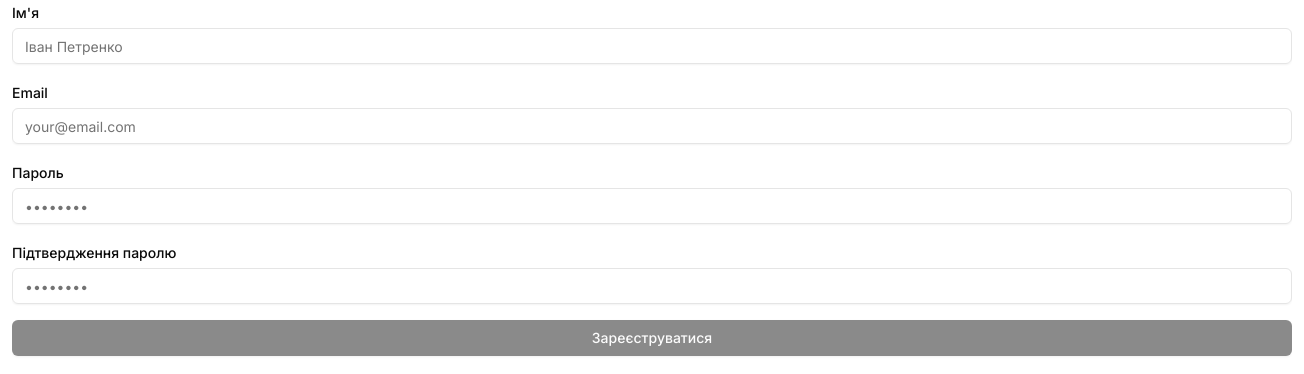
SignUp Flow Integration Tests › disables the submit button when fields are empty
The image size is (1304, 374).
Expected: the button "Зареєструватися" is disabled, [12,320,1292,356]
Type "John Doe" into the field labelled "Ім'я". click: (652, 46)
box: [12,28,1292,64]
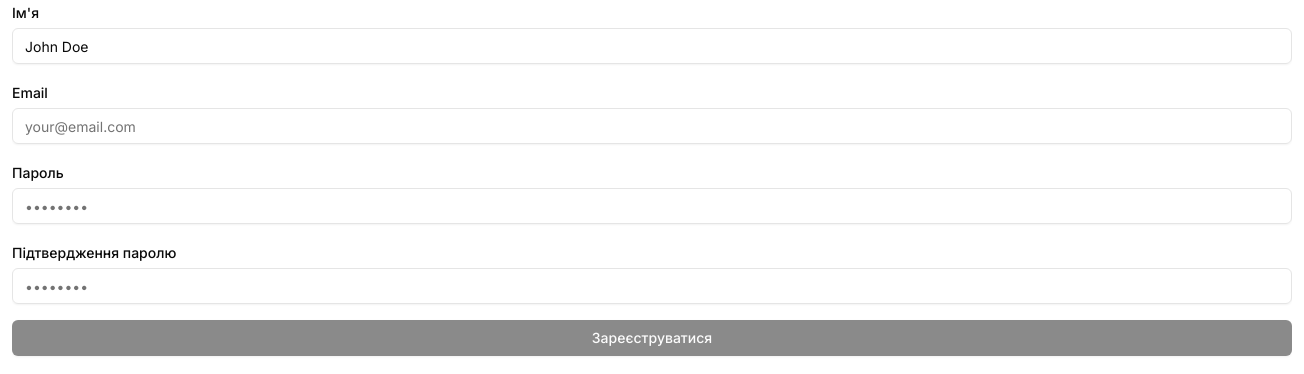
Type "john@example.com" into the field labelled "Email". click: (652, 126)
box: [12,108,1292,144]
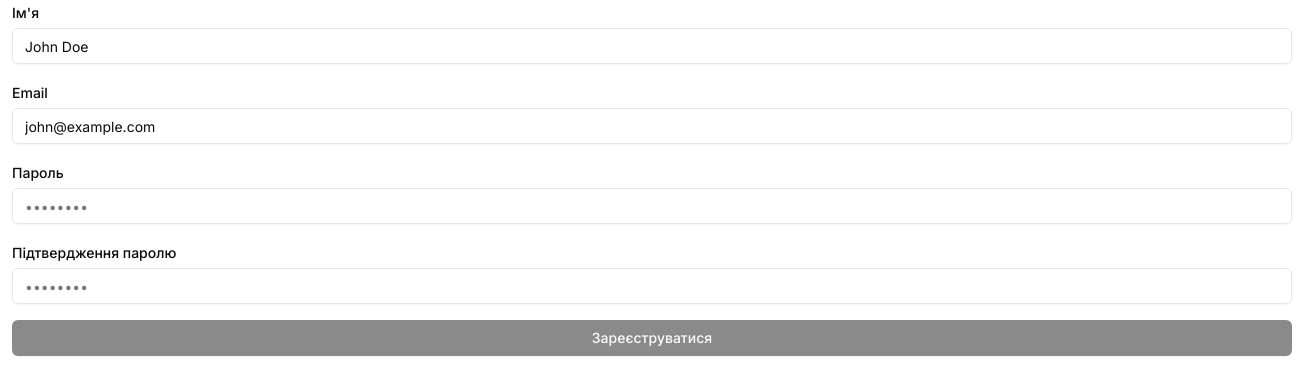
Type "password123" into the password field labelled "Пароль". click: (652, 206)
box: [12,188,1292,224]
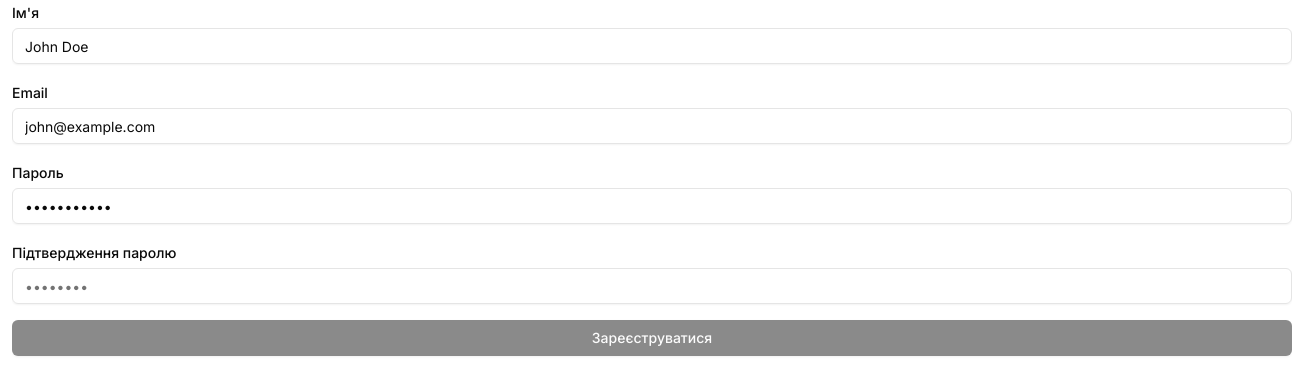
Type "password123" into the password field labelled "Підтвердження паролю". click: (652, 286)
box: [12,268,1292,304]
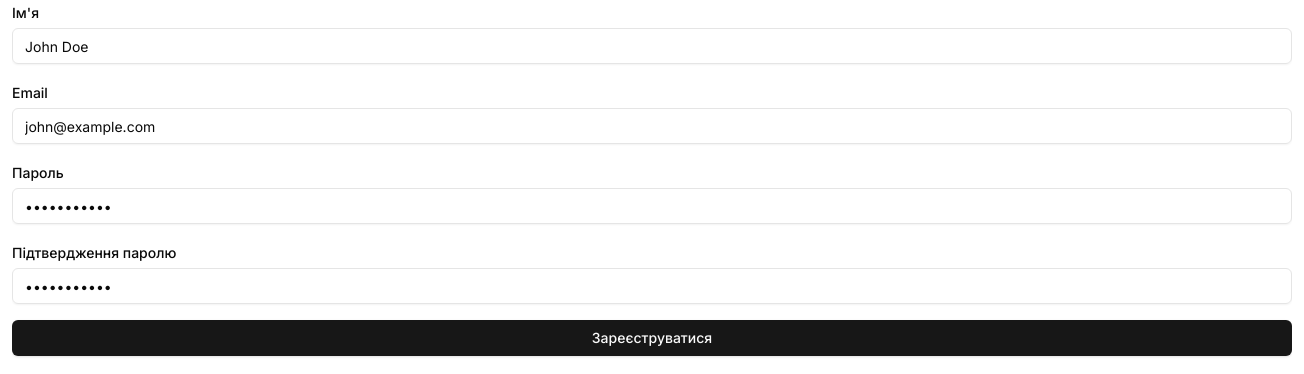
Now the button "Зареєструватися" is enabled, box [12,320,1292,356]
